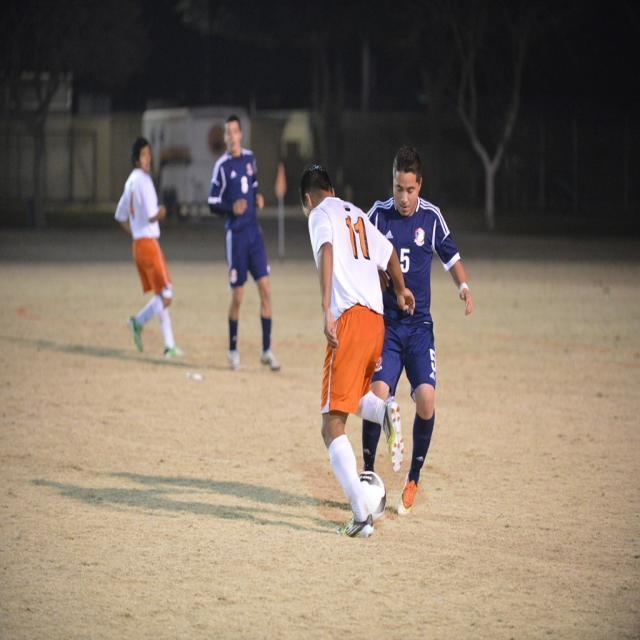football: (342, 461, 400, 529)
